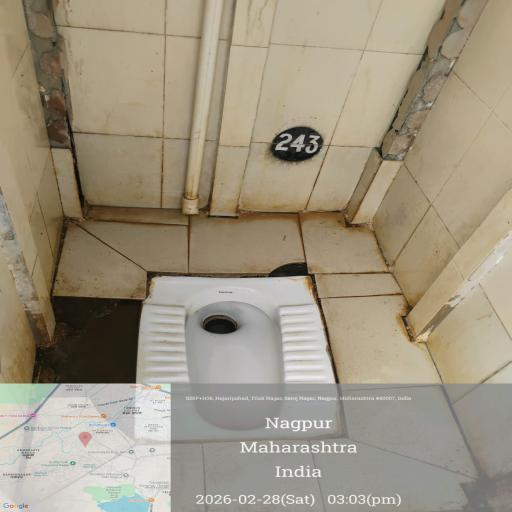damage: (13, 292, 133, 382)
partial_dirty_floor: (237, 11, 497, 198), (24, 0, 191, 201), (30, 201, 412, 288), (412, 206, 512, 380), (328, 295, 430, 376)
partial_dirty_indian: (134, 276, 340, 388)
